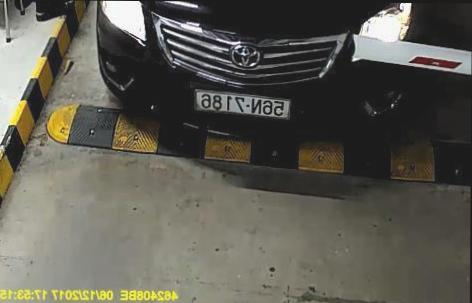License_Plate: (193, 89, 292, 118)
